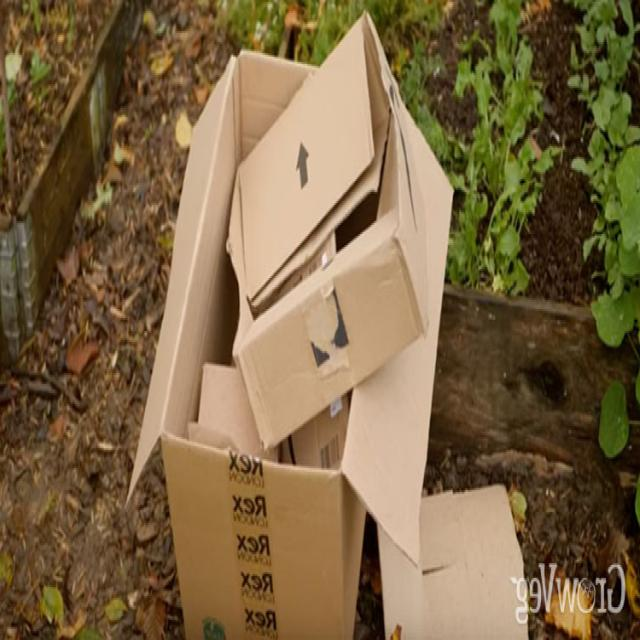cardboard: (155, 18, 442, 503), (165, 389, 384, 640), (376, 484, 517, 640)
